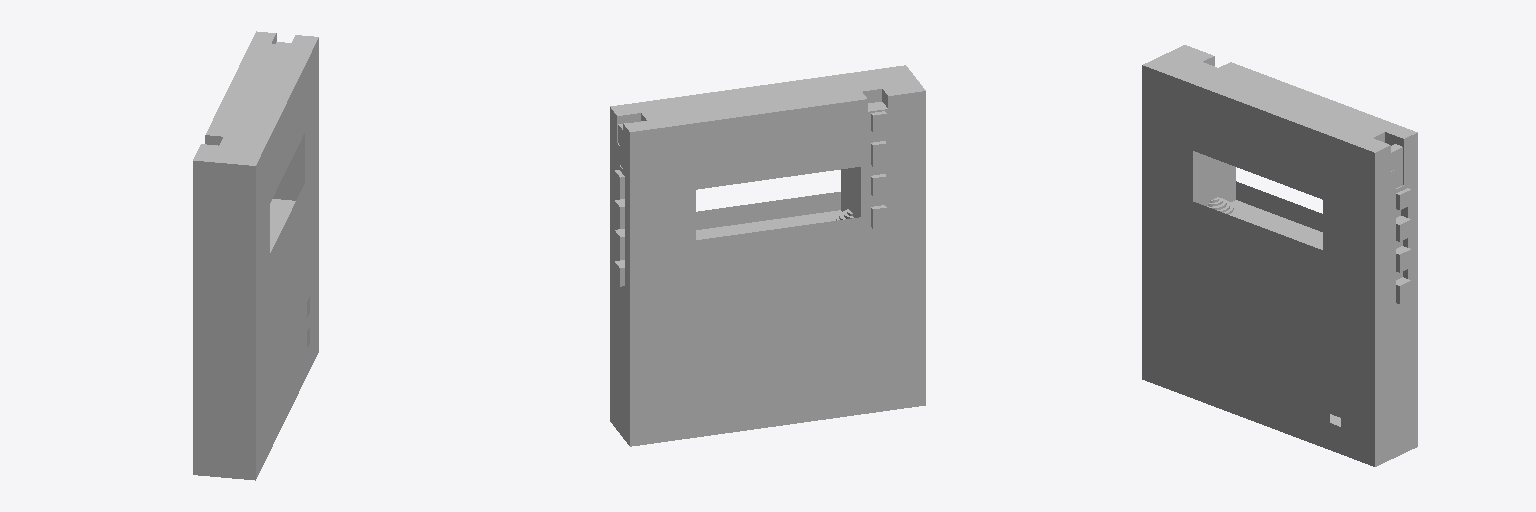
The model's file is EDIFICIOMIRADOR_norm.obj.
3 views of the same model, side by side, from view 1: azimuth 30°, elevation 25°; view 2: azimuth 150°, elevation 25°; view 3: azimuth 270°, elevation 25° (orthographic).
Bounding box in the file's own units: 0.9 × 1.22 × 0.9709.